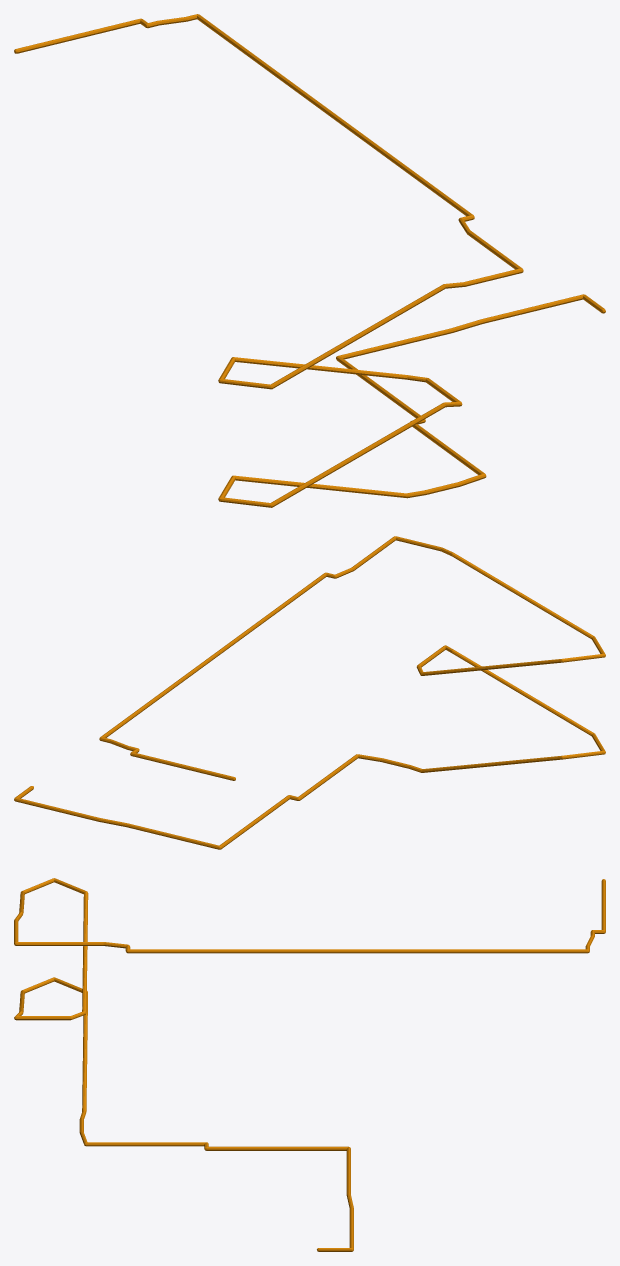
3 views of the same model, one above another, from view 1: azimuth 30°, elevation 25°; view 2: azimuth 150°, elevation 25°; view 3: azimuth 270°, elevation 25° (orthographic). The views are drawn at different scales.
Size of the model in its own units: 2408 by 1020 by 2704.
